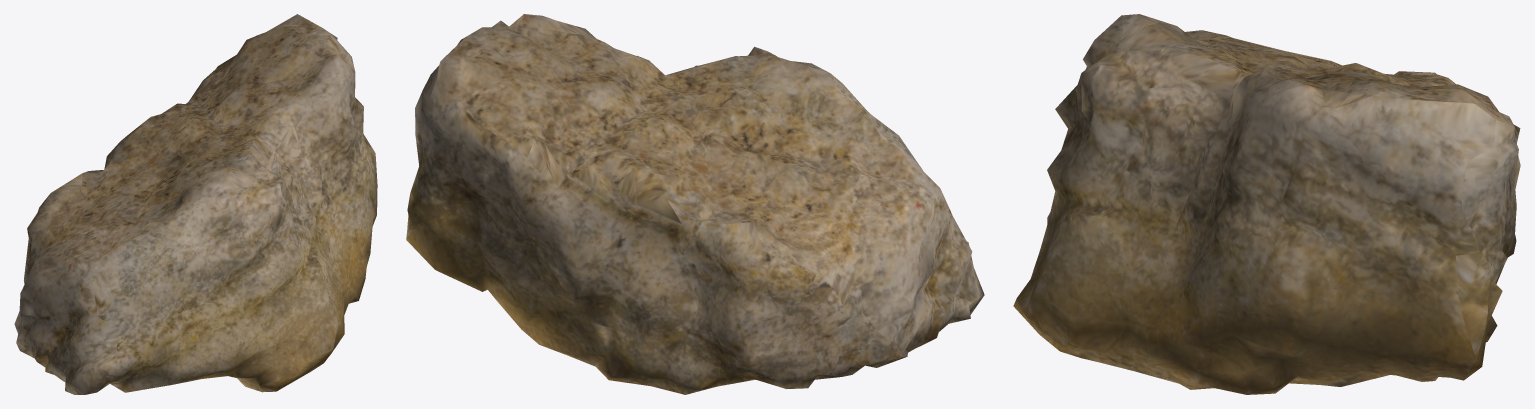
The model's file is nama_stone_d.glb.
The picture shows the model from 3 angles, left to right: view 1: azimuth 30°, elevation 25°; view 2: azimuth 150°, elevation 25°; view 3: azimuth 270°, elevation 25°; orthographic projection. The views are drawn at different scales.
Parts seen in each view (by area): view 1: nama_stone_d; view 2: nama_stone_d; view 3: nama_stone_d.
Boxes of the visible parts, x1,y1,x2,y2 form: nama_stone_d: (14,14,377,394); nama_stone_d: (406,14,984,394); nama_stone_d: (1013,14,1520,394).
Size of the model in its own units: 1.31 by 0.8058 by 1.04.
1 material, 1 textured.
